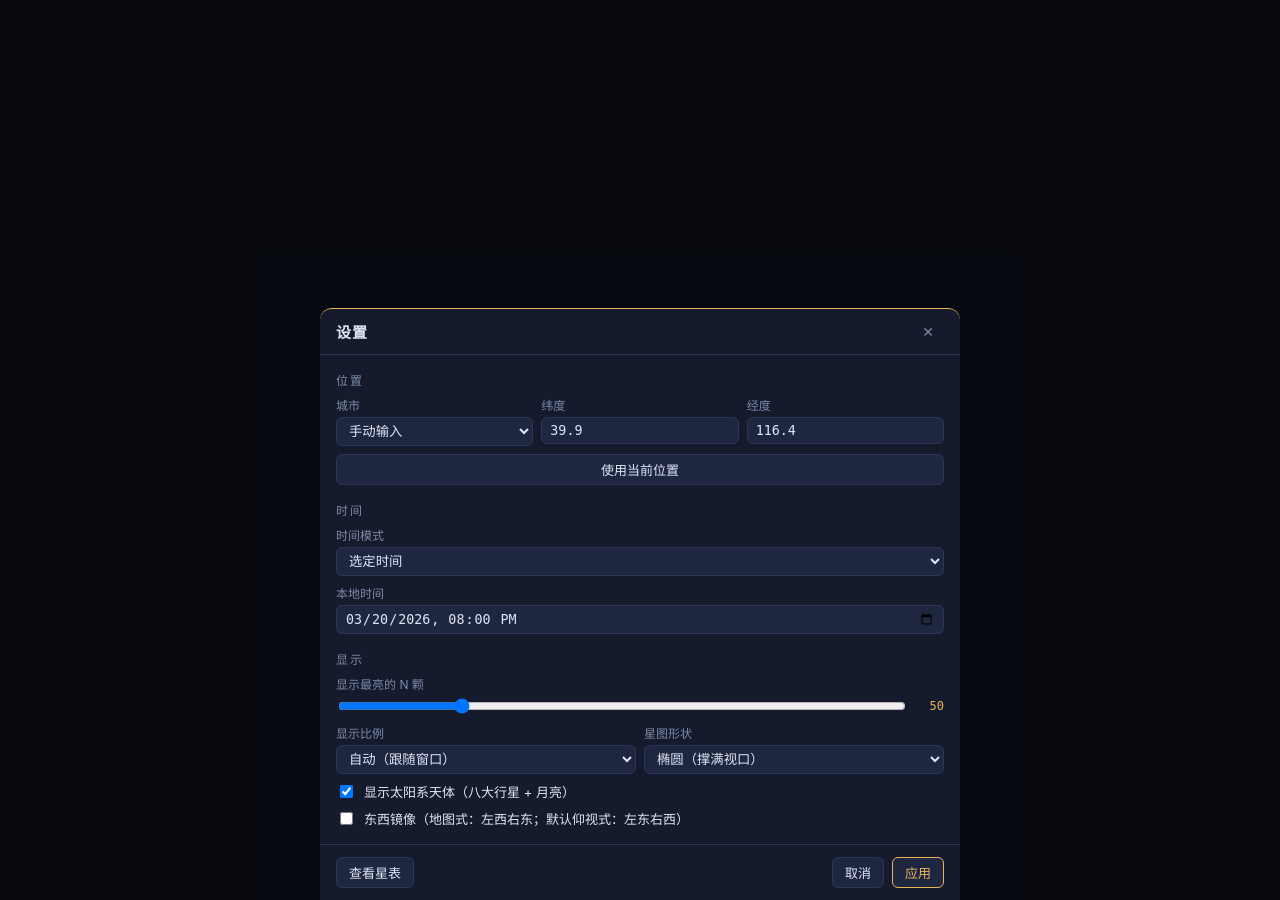
Test case: 浏览器定位 › 拒绝授权显示错误提示
Click the button "使用当前位置". click: (640, 469)
box: [336,454,944,485]
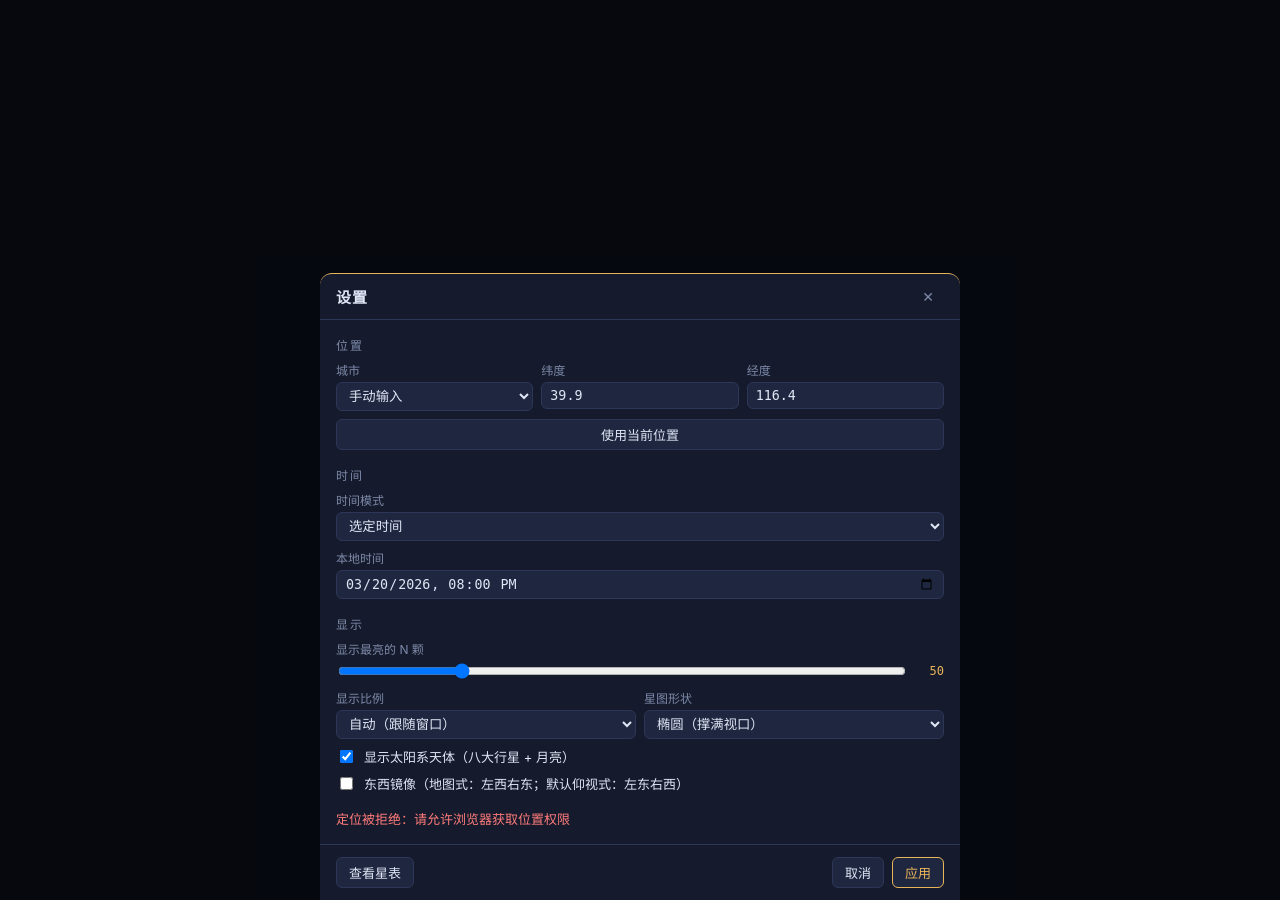
Check: the message shows "定位被拒绝", box [336,811,570,827]
